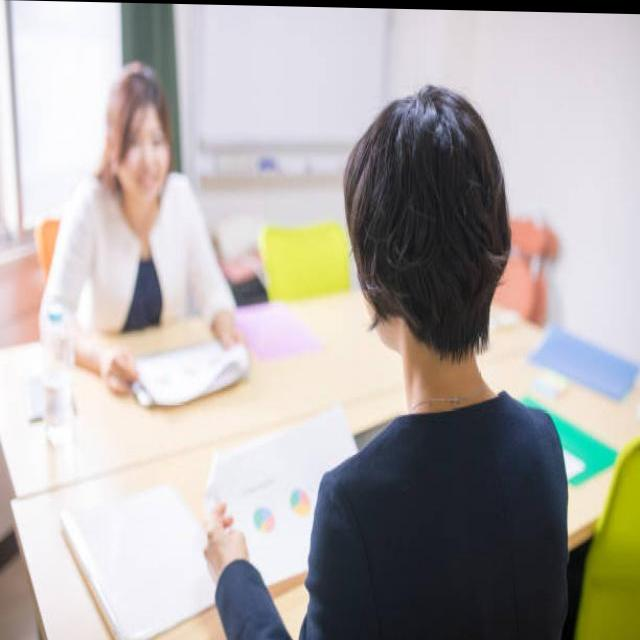no helmet: (352, 88, 512, 354)
